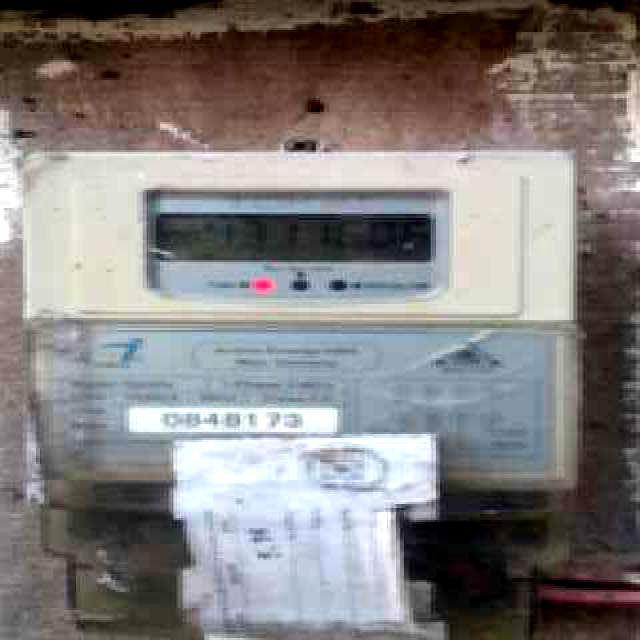LCD: (149, 205, 438, 266)
